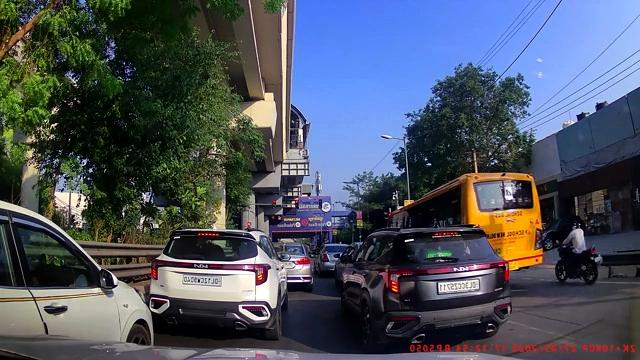motorcycle_with_helmet: (553, 215, 602, 286)
